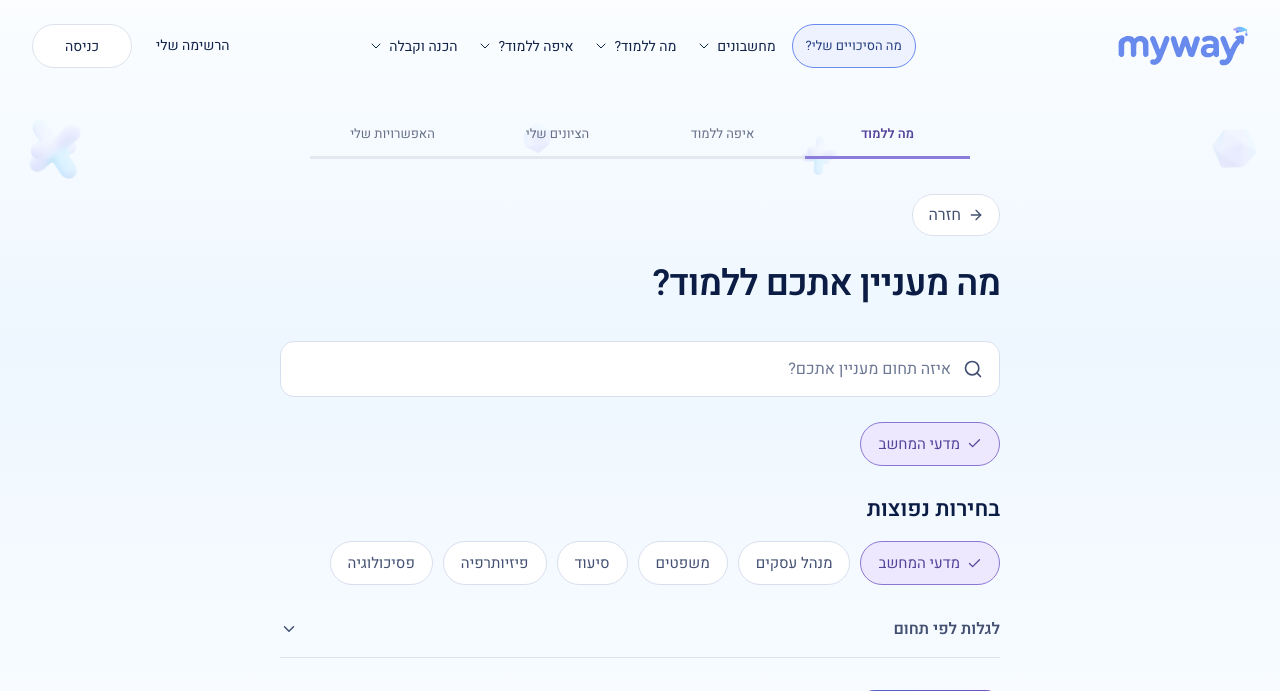
it: UX P1 subject selection › allows the student to change the preselected field without forcing it back
Click the 1st button "מדעי המחשב" at coordinates (930, 444), box [860,422,1000,466]
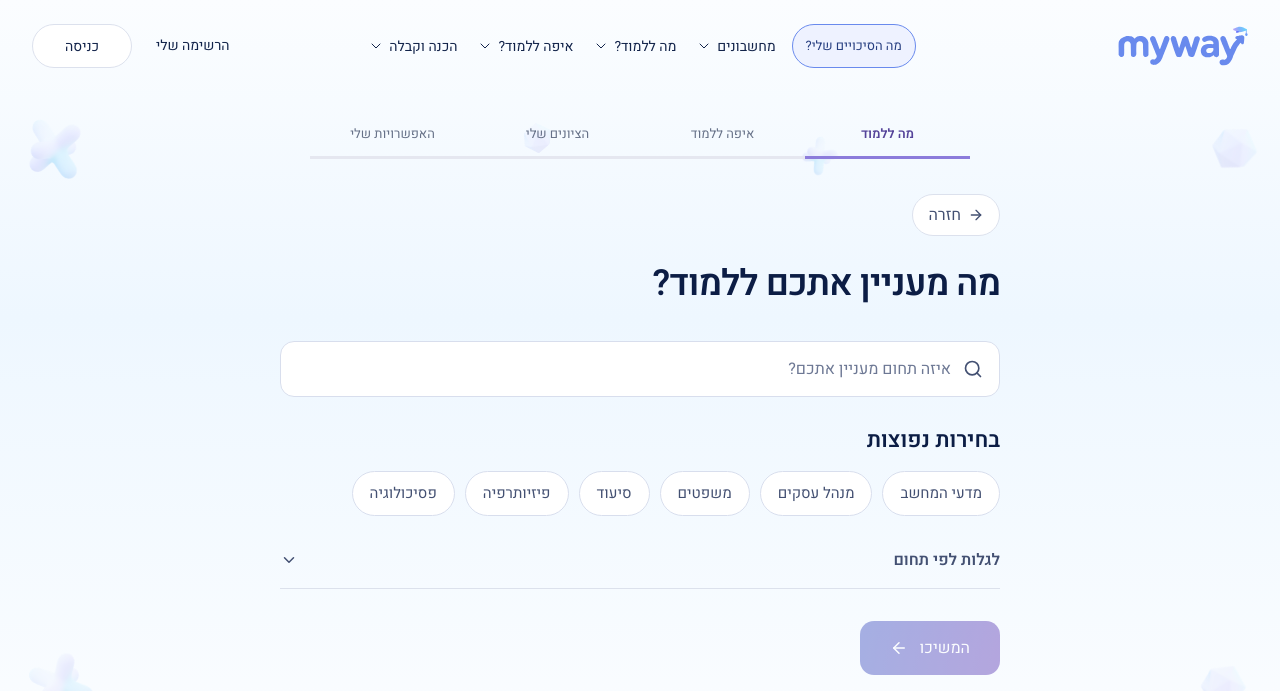
Expected: the button "המשיכו" is disabled, [860,621,1000,675]
